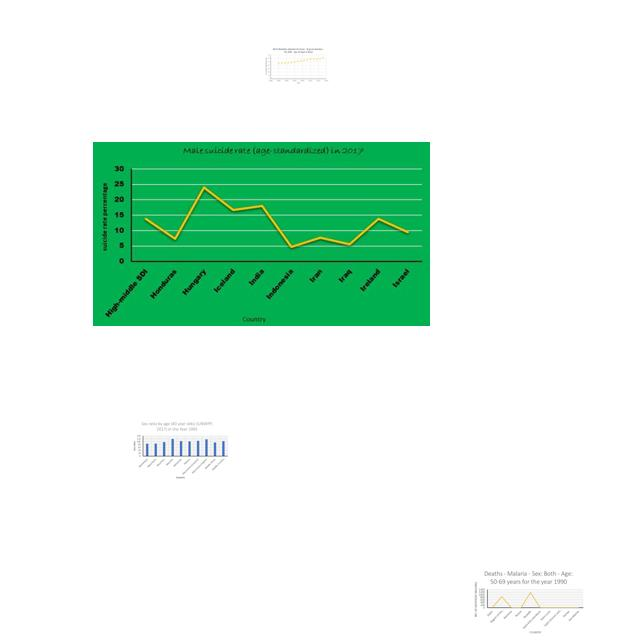Graph: (93, 142, 430, 326), (471, 568, 585, 637), (130, 420, 229, 480), (264, 47, 329, 85)
